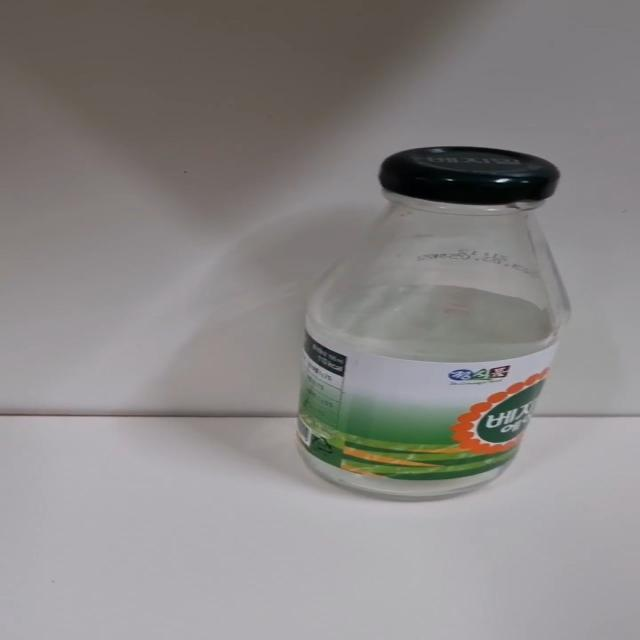Glass: (298, 140, 568, 504)
